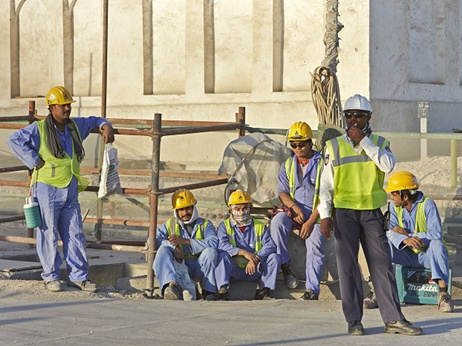white: (344, 95, 372, 129)
yellow: (387, 170, 419, 207), (45, 86, 74, 119), (288, 121, 312, 156), (170, 187, 196, 219), (227, 190, 251, 220)
